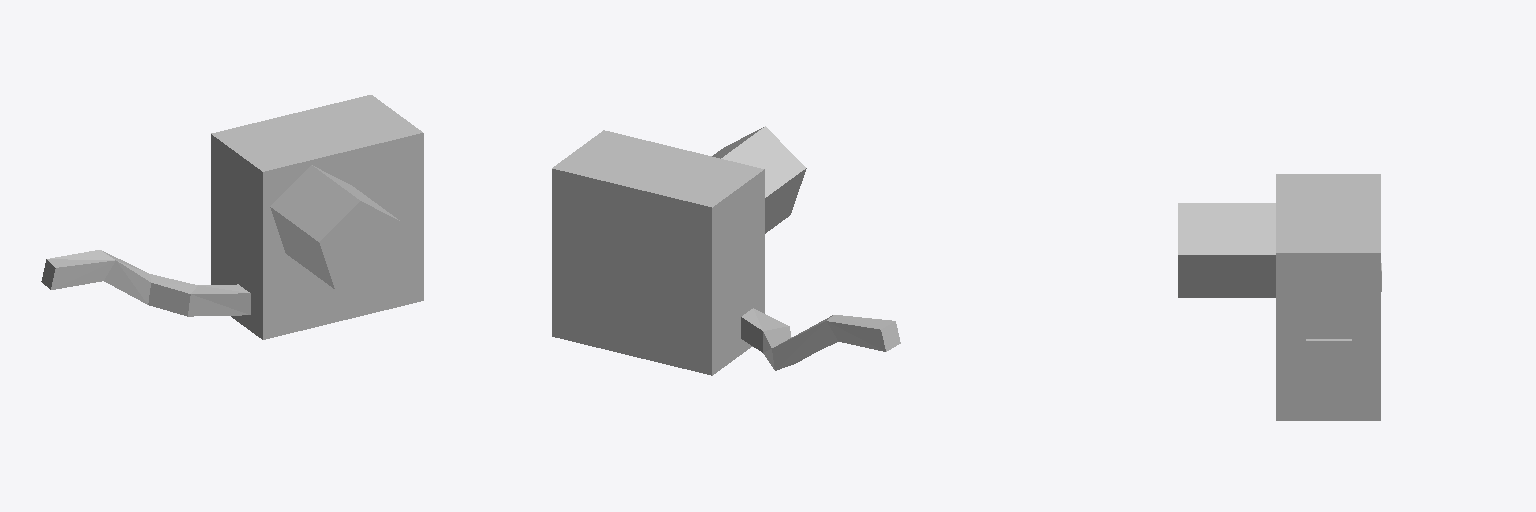
File: floorScrap11.obj
3 renders of one model, left to right at view 1: azimuth 30°, elevation 25°; view 2: azimuth 150°, elevation 25°; view 3: azimuth 270°, elevation 25°, orthographic.
Parts seen in each view (by area): view 1: Object.1, Object.3, Object.4; view 2: Object.1, Object.4, Object.3; view 3: Object.1, Object.3, Object.2.
Boxes of the visible parts, x1,y1,x2,y2 form: Object.1: [211, 95, 423, 339]; Object.3: [270, 165, 401, 289]; Object.4: [41, 250, 250, 316]; Object.1: [552, 130, 764, 375]; Object.4: [741, 308, 900, 370]; Object.3: [712, 126, 806, 233]; Object.1: [1276, 174, 1380, 420]; Object.3: [1178, 203, 1275, 297]; Object.2: [1306, 339, 1351, 408].
Size of the model in its own units: 107 by 50.8 by 55.86.